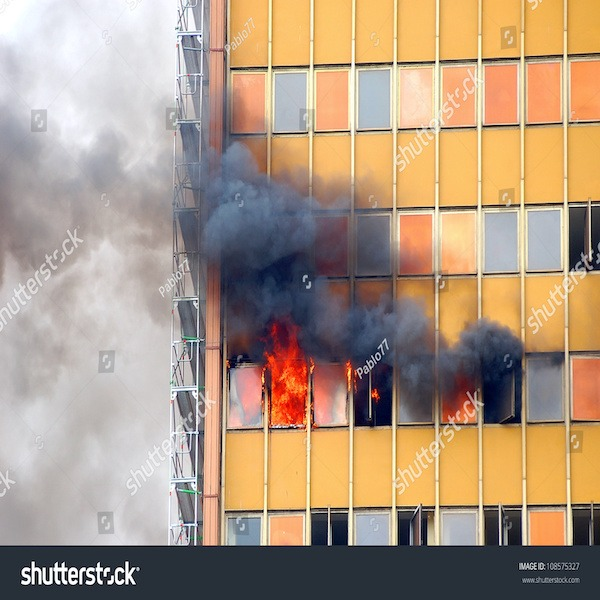fire: (265, 303, 314, 428), (343, 330, 362, 397)
